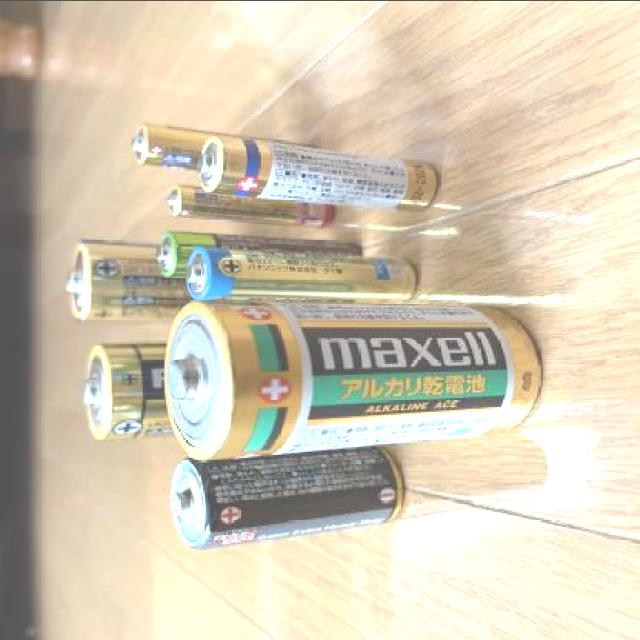AA: (192, 132, 448, 214), (183, 240, 422, 305)
